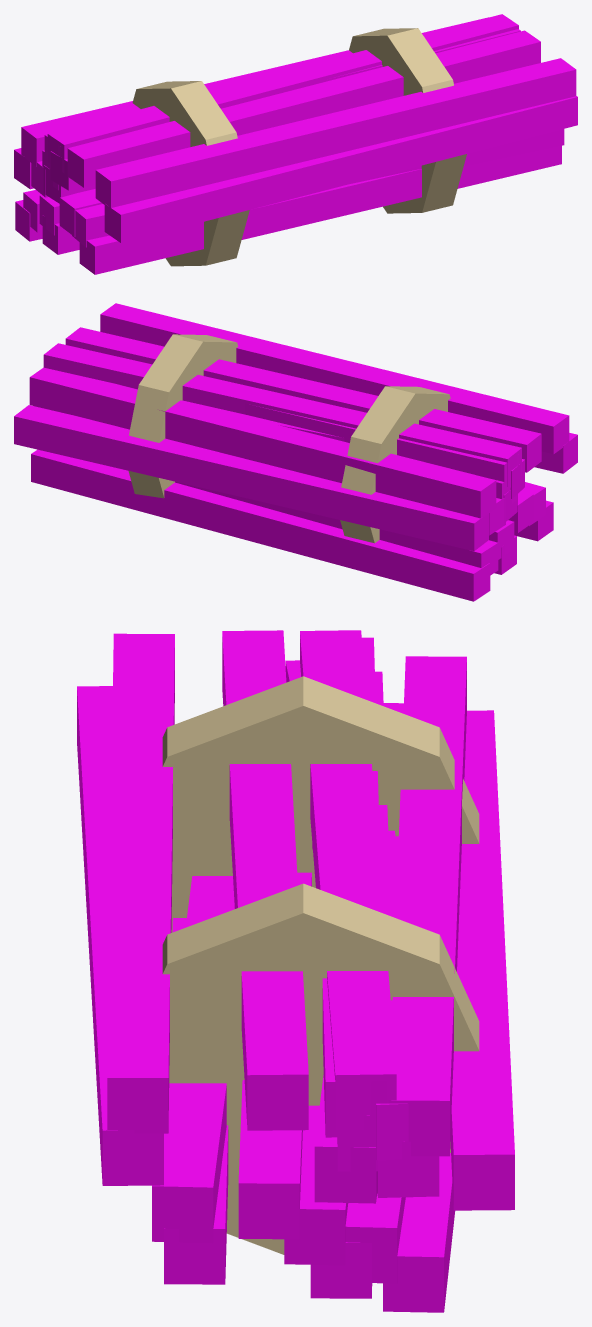
The model's file is objet_fibre.glb.
The picture shows the model from 3 angles, top to bottom: view 1: azimuth 30°, elevation 25°; view 2: azimuth 150°, elevation 25°; view 3: azimuth 270°, elevation 25°; orthographic projection. The views are drawn at different scales.
Parts seen in each view (by area): view 1: fibre_teinte.002, fibre_ficelle.002; view 2: fibre_teinte.002, fibre_ficelle.002; view 3: fibre_teinte.002, fibre_ficelle.002.
Part boxes in pixels (x1,y1,x2,y2): fibre_teinte.002: (14, 14, 577, 274); fibre_ficelle.002: (132, 28, 466, 266); fibre_teinte.002: (14, 303, 577, 601); fibre_ficelle.002: (128, 334, 450, 543); fibre_teinte.002: (77, 630, 514, 1312); fibre_ficelle.002: (162, 676, 479, 1254).
Bounding box in the file's own units: 0.3015 × 0.11 × 0.1251.
